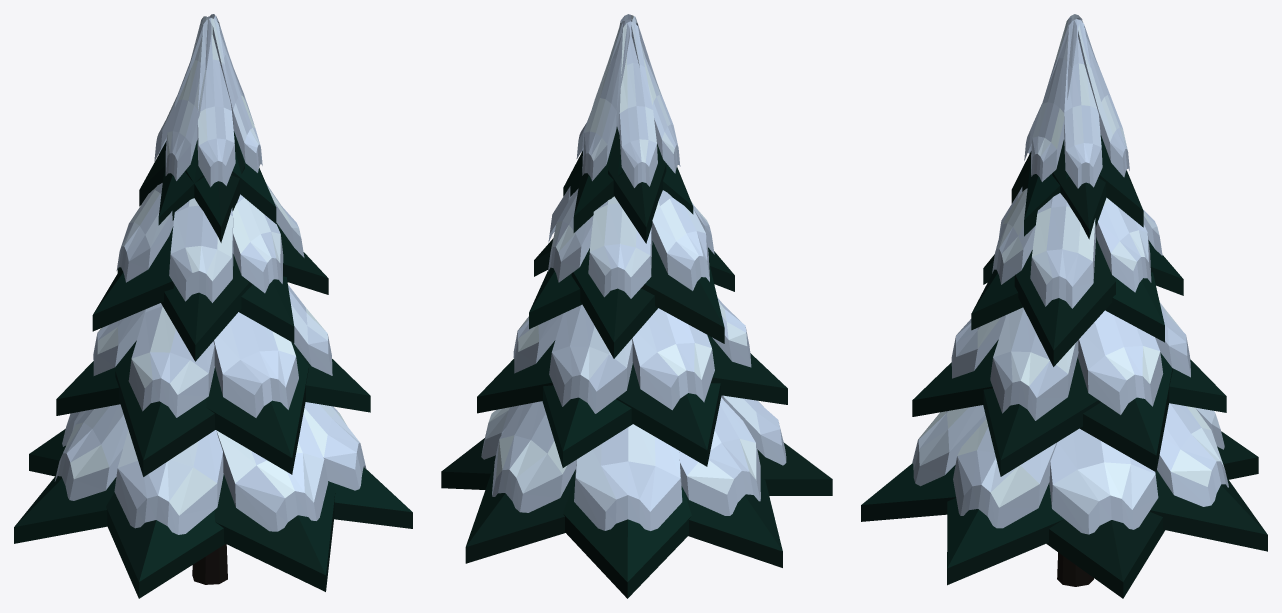
Rendered from ConceptCedar1.fbx.
The picture shows the model from 3 angles, left to right: view 1: azimuth 30°, elevation 25°; view 2: azimuth 150°, elevation 25°; view 3: azimuth 270°, elevation 25°; orthographic projection.
Parts seen in each view (by area): view 1: ConceptCedar1; view 2: ConceptCedar1; view 3: ConceptCedar1.
Part boxes in pixels (x1,y1,x2,y2): ConceptCedar1: (14, 14, 412, 598); ConceptCedar1: (441, 14, 832, 598); ConceptCedar1: (861, 14, 1267, 598).
Size of the model in its own units: 2.56 by 4.03 by 2.64.
